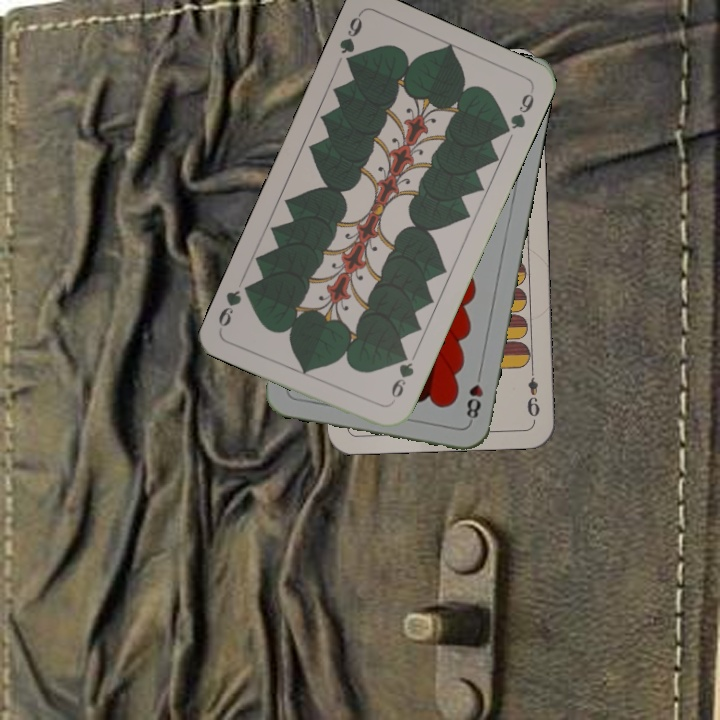E9: (523, 363, 542, 419)
G9: (335, 10, 365, 71), (386, 348, 417, 407)
H8: (462, 366, 486, 425)
